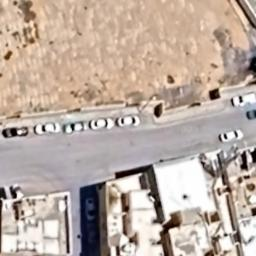SUV: (231, 90, 256, 108)
sedan: (88, 116, 116, 134), (218, 128, 246, 144), (32, 122, 62, 136), (2, 126, 30, 140), (64, 119, 88, 135), (116, 115, 142, 129)
